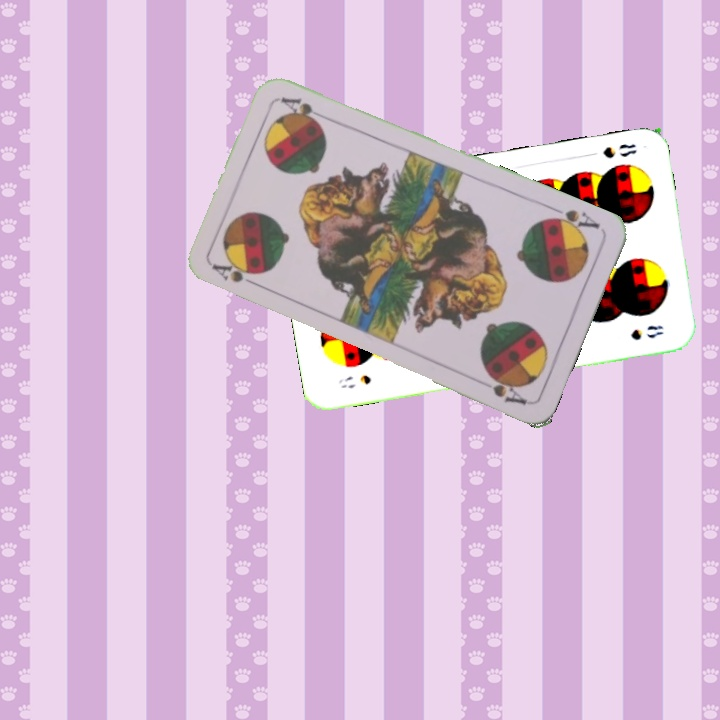S8: (599, 139, 640, 161), (334, 370, 374, 391)
SA: (543, 203, 602, 238), (208, 260, 265, 291)
